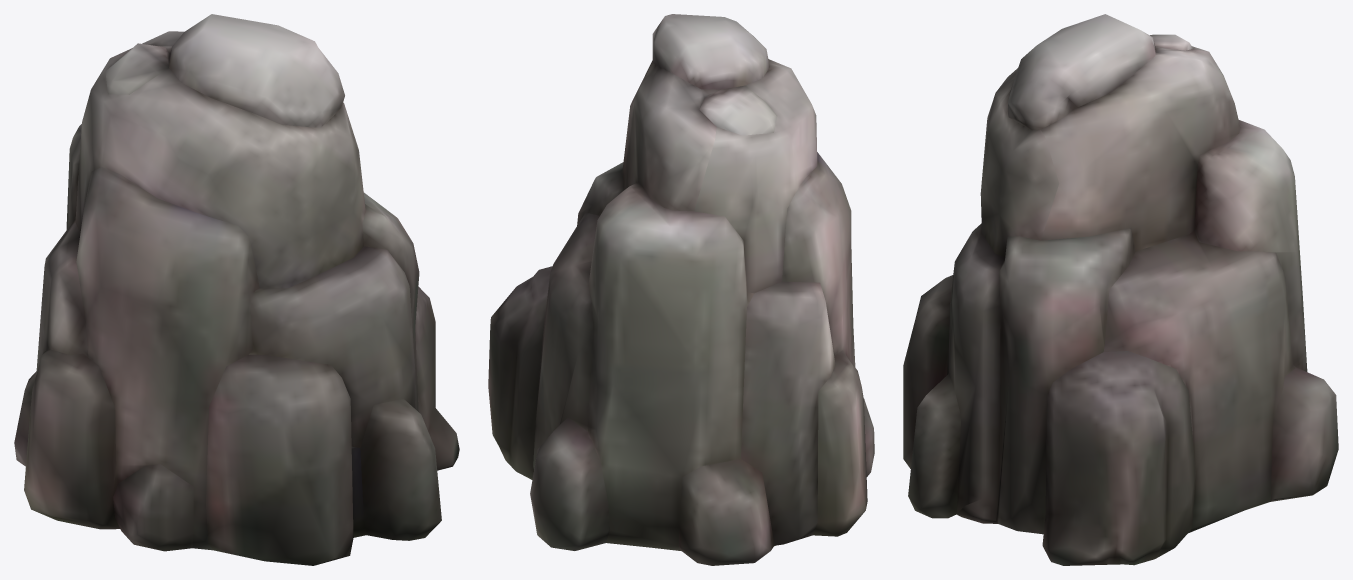
The model's file is rock-big-2.lod0.glb.
3 views of the same model, side by side, from view 1: azimuth 30°, elevation 25°; view 2: azimuth 150°, elevation 25°; view 3: azimuth 270°, elevation 25° (orthographic). The views are drawn at different scales.
Visible parts, largest first — view 1: BIG_1_BiG_0; view 2: BIG_1_BiG_0; view 3: BIG_1_BiG_0.
Boxes of the visible parts, box(x1,y1,x2,y2) form: BIG_1_BiG_0: box(14, 14, 459, 565); BIG_1_BiG_0: box(488, 14, 874, 565); BIG_1_BiG_0: box(903, 14, 1338, 565).
Size of the model in its own units: 8.95 by 10.22 by 8.97.
Materials: 1 (1 with a texture image).
